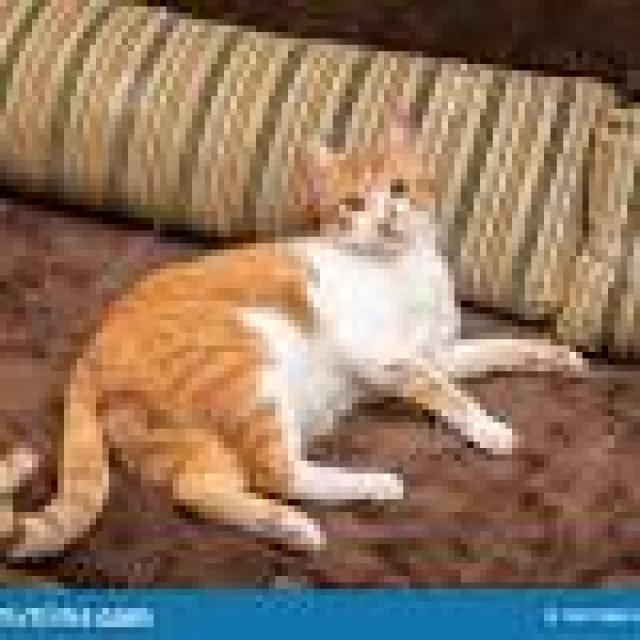Cat: (0, 93, 598, 564)
